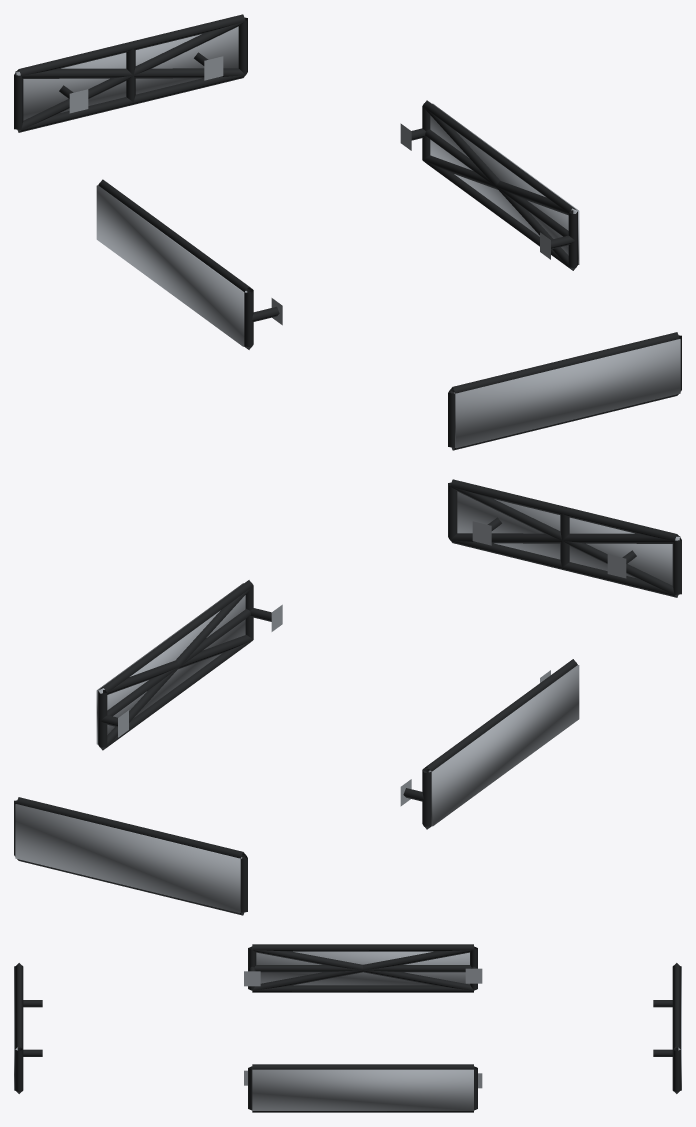
File: kanaya_kestrel_protecao.glb
The picture shows the model from 3 angles, top to bottom: view 1: azimuth 30°, elevation 25°; view 2: azimuth 150°, elevation 25°; view 3: azimuth 270°, elevation 25°; orthographic projection. The views are drawn at different scales.
Visible parts, largest first — view 1: Protection_front_Level3_Details, Protection_left_Level3_Details, Protection_rear_Level1_Details, Protection_rear_Level3_Details, Protection_right_Level1_Details, Protection_rear_Level2_Details, Protection_right_Level2_Details, Protection_right_Level3_Details, Protection_front_Level1_Details, Protection_left_Level1_Details; view 2: Protection_rear_Level3_Details, Protection_left_Level3_Details, Protection_front_Level1_Details, Protection_front_Level3_Details, Protection_right_Level1_Details, Protection_front_Level2_Details, Protection_right_Level2_Details, Protection_right_Level3_Details, Protection_rear_Level1_Details, Protection_left_Level1_Details; view 3: Protection_right_Level3_Details, Protection_left_Level2_Details, Protection_left_Level1_Details, Protection_left_Level3_Details, Protection_right_Level1_Details, Protection_rear_Level1_Details, Protection_front_Level1_Details.
Boxes of the visible parts, x1,y1,x2,y2 form: Protection_front_Level3_Details: (453, 339, 680, 448); Protection_left_Level3_Details: (96, 185, 247, 346); Protection_rear_Level1_Details: (14, 14, 247, 132); Protection_rear_Level3_Details: (15, 26, 238, 120); Protection_right_Level1_Details: (400, 100, 577, 270); Protection_rear_Level2_Details: (16, 21, 245, 131); Protection_right_Level2_Details: (422, 107, 576, 270); Protection_right_Level3_Details: (430, 103, 579, 264); Protection_front_Level1_Details: (448, 332, 681, 450); Protection_left_Level1_Details: (98, 179, 282, 349); Protection_rear_Level3_Details: (15, 804, 242, 913); Protection_left_Level3_Details: (428, 665, 579, 826); Protection_front_Level1_Details: (448, 479, 681, 597); Protection_front_Level3_Details: (457, 491, 680, 585); Protection_right_Level1_Details: (98, 580, 282, 750); Protection_front_Level2_Details: (450, 486, 679, 596); Protection_right_Level2_Details: (99, 586, 253, 749); Protection_right_Level3_Details: (96, 583, 245, 744); Protection_rear_Level1_Details: (14, 797, 247, 915); Protection_left_Level1_Details: (400, 659, 577, 829); Protection_right_Level3_Details: (252, 1069, 473, 1110); Protection_left_Level2_Details: (251, 947, 474, 990); Protection_left_Level1_Details: (244, 944, 482, 992); Protection_left_Level3_Details: (256, 951, 469, 985); Protection_right_Level1_Details: (244, 1064, 482, 1112); Protection_rear_Level1_Details: (653, 963, 680, 1093); Protection_front_Level1_Details: (15, 963, 42, 1093).
Size of the model in its own units: 1.95 by 0.354 by 4.43.
1 material, 1 textured.
